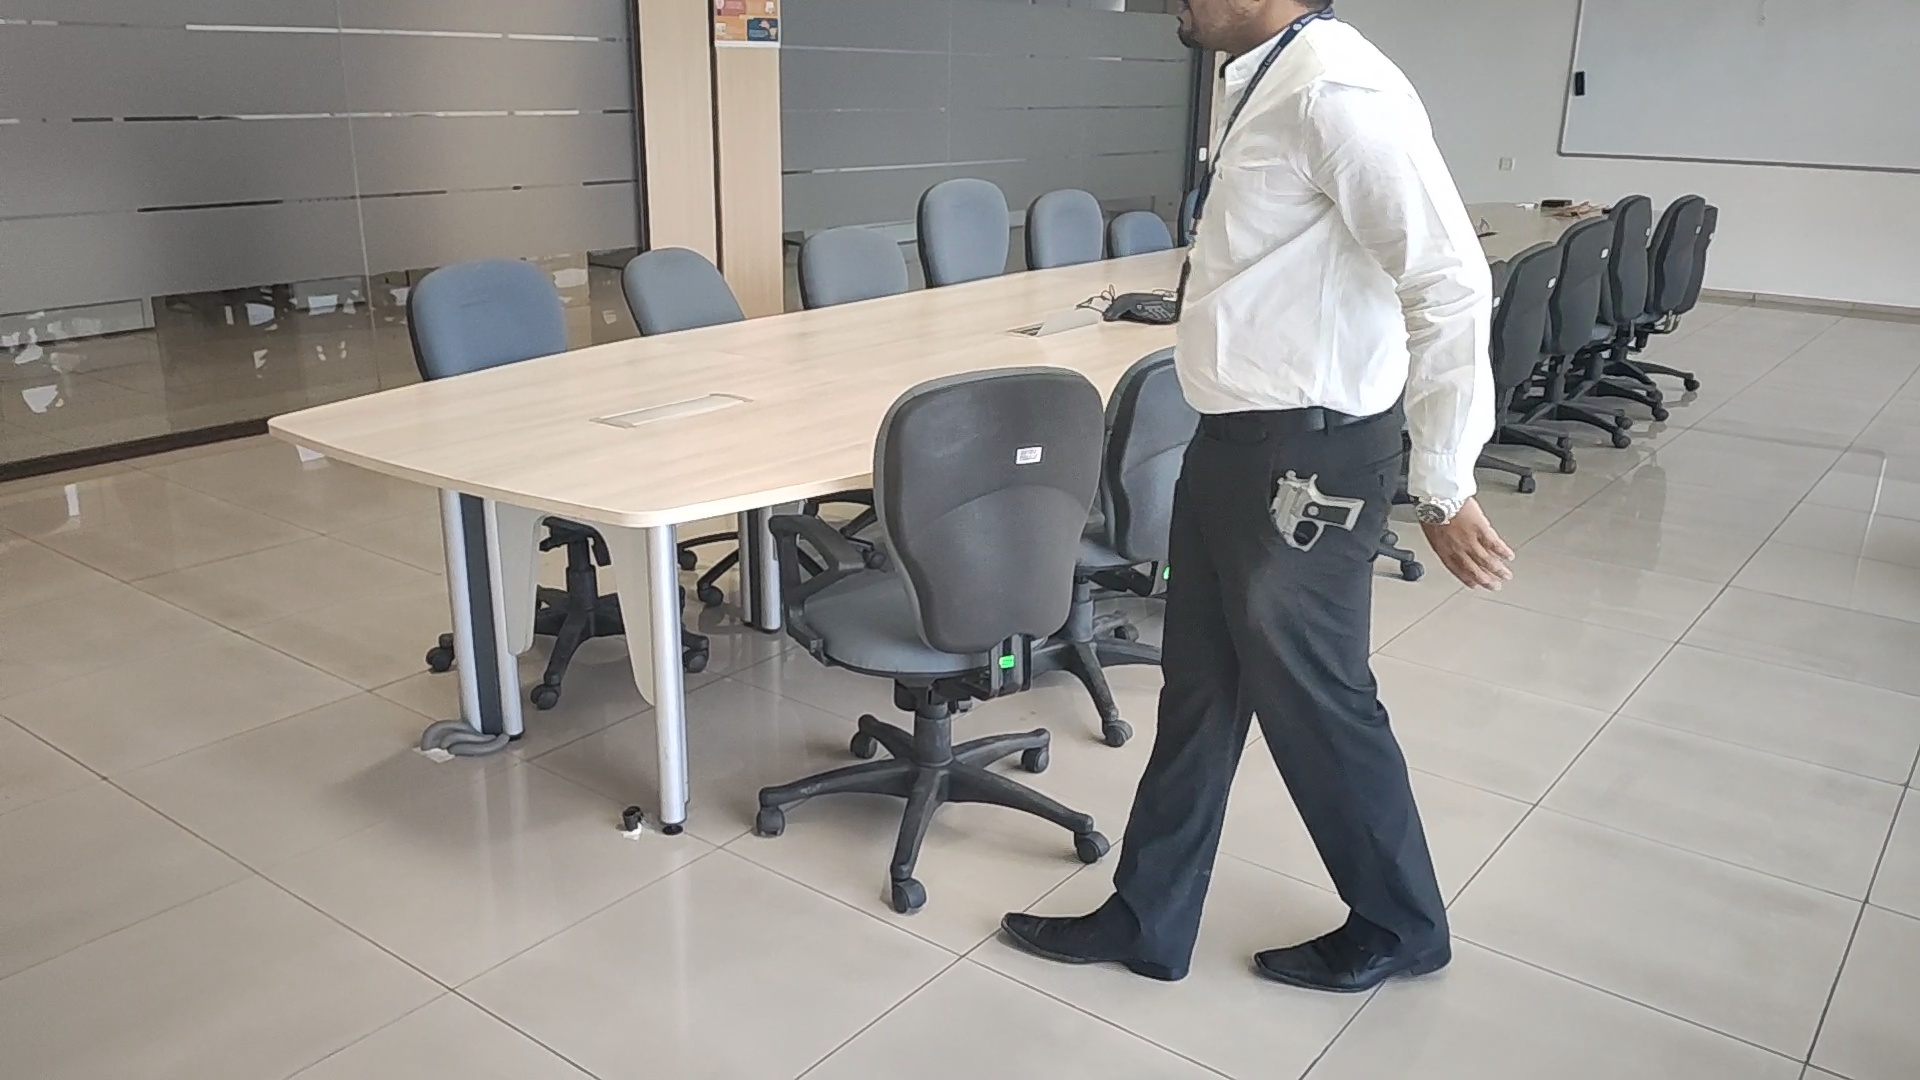gun: (1265, 471, 1365, 551)
